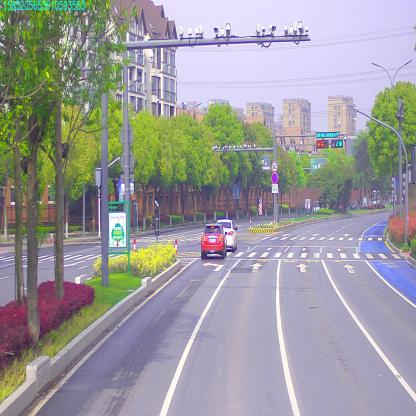traffic-light: (316, 130, 337, 138), (316, 140, 328, 148), (331, 140, 342, 146)
